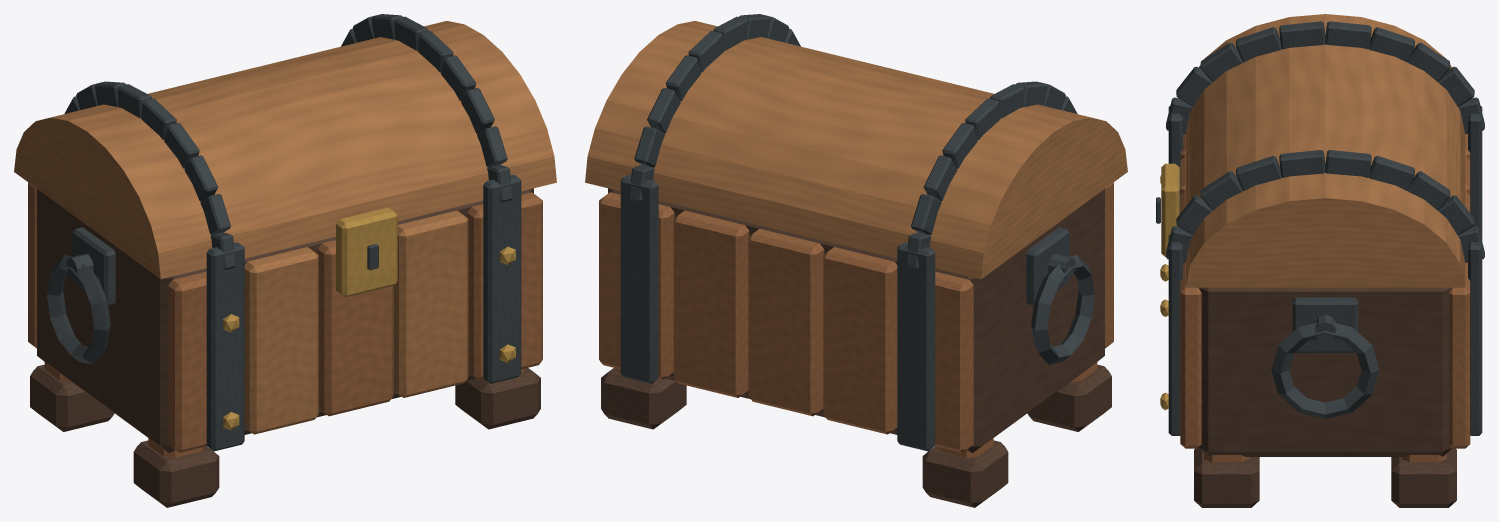
File: chest_ironbound.glb
3 renders of one model, left to right at view 1: azimuth 30°, elevation 25°; view 2: azimuth 150°, elevation 25°; view 3: azimuth 270°, elevation 25°, orthographic. The views are drawn at different scales.
Visible parts, largest first — view 1: chest_ironbound; view 2: chest_ironbound; view 3: chest_ironbound.
Part boxes in pixels (bbox=[...]): chest_ironbound: bbox=[14, 14, 556, 507]; chest_ironbound: bbox=[585, 14, 1127, 507]; chest_ironbound: bbox=[1156, 14, 1484, 507].
Bounding box in the file's own units: 1.15 × 0.8992 × 0.8.
1 material, 1 textured.
